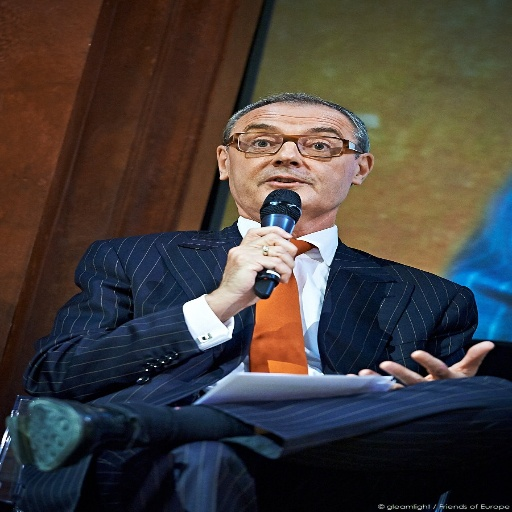hand: (218, 224, 301, 310), (364, 349, 496, 395)
